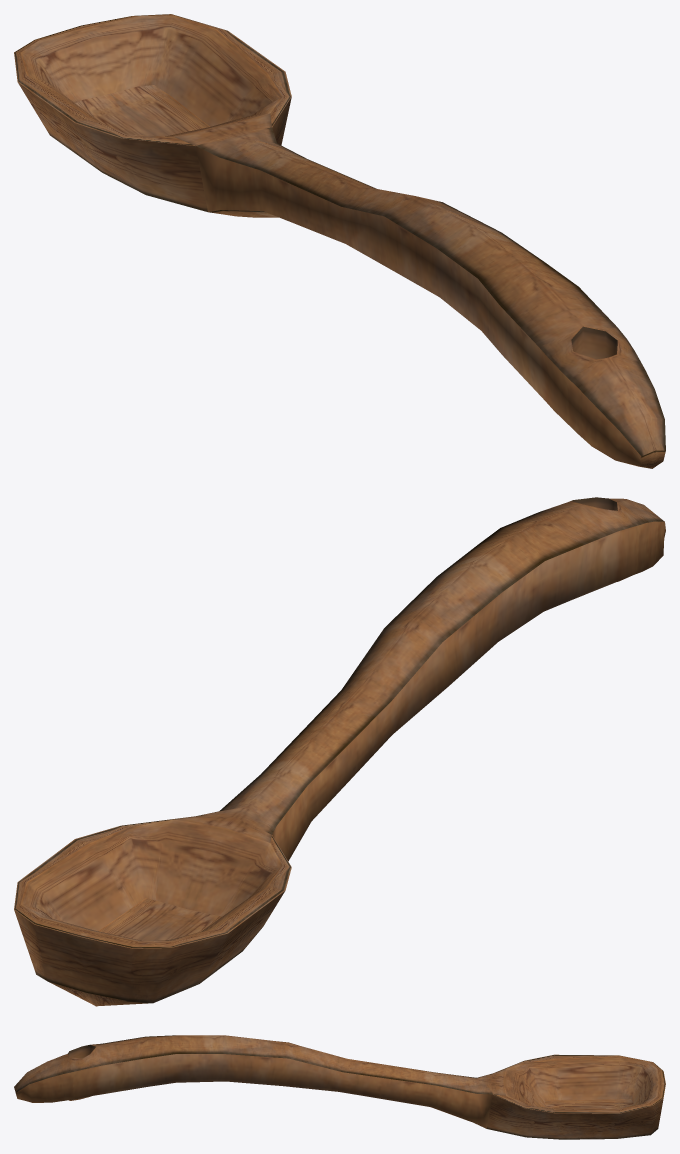
File: spoon_ladle.glb
The picture shows the model from 3 angles, top to bottom: view 1: azimuth 30°, elevation 25°; view 2: azimuth 150°, elevation 25°; view 3: azimuth 270°, elevation 25°; orthographic projection. The views are drawn at different scales.
Parts seen in each view (by area): view 1: Object_46; view 2: Object_46; view 3: Object_46.
Part boxes in pixels (left/top/right/bottom): Object_46: left=14, top=14, right=665, bottom=468; Object_46: left=14, top=497, right=665, bottom=1006; Object_46: left=14, top=1035, right=665, bottom=1139.
Size of the model in its own units: 0.0635 by 0.048 by 0.2998.
Materials: 1 (1 with a texture image).
